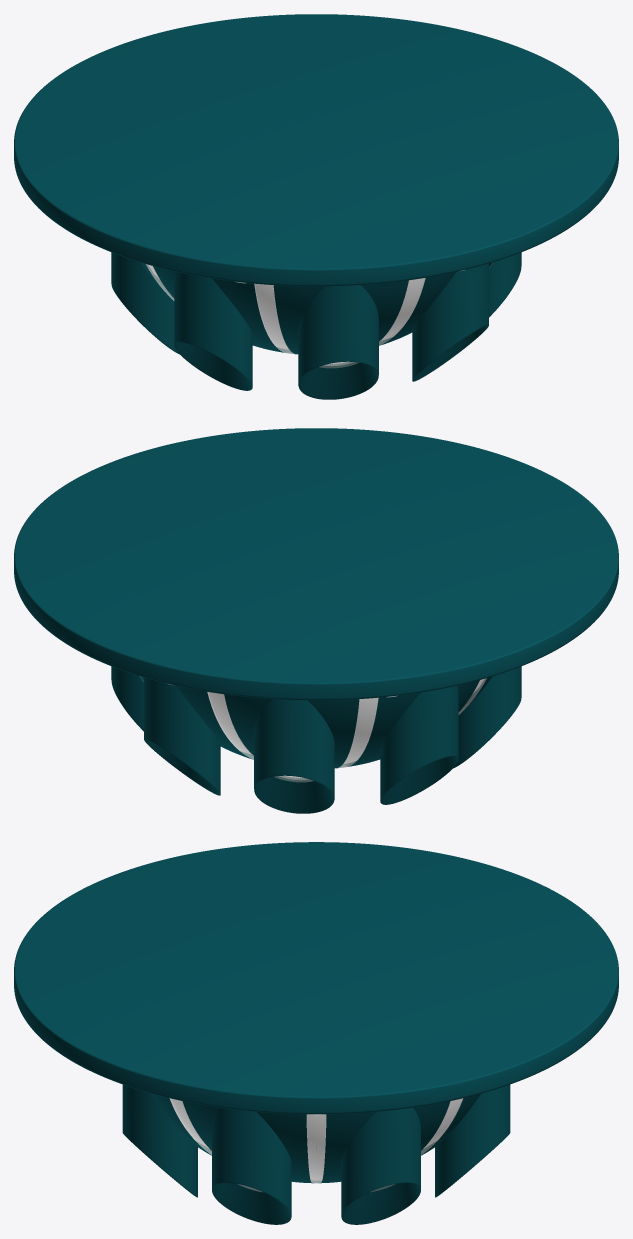
The picture shows the model from 3 angles, top to bottom: view 1: azimuth 30°, elevation 25°; view 2: azimuth 150°, elevation 25°; view 3: azimuth 270°, elevation 25°; orthographic projection.
Parts seen in each view (by area): view 1: chandelier-body_1, chandelier-glass_2, chandelier-light_0; view 2: chandelier-body_1, chandelier-glass_2, chandelier-light_0; view 3: chandelier-body_1, chandelier-glass_2, chandelier-light_0.
Part boxes in pixels (x1,y1,x2,y2): chandelier-body_1: (14,14,618,399); chandelier-glass_2: (146,262,492,368); chandelier-light_0: (149,265,424,363); chandelier-body_1: (14,428,618,813); chandelier-glass_2: (140,676,486,782); chandelier-light_0: (208,679,483,777); chandelier-body_1: (14,842,618,1224); chandelier-glass_2: (169,1098,463,1192); chandelier-light_0: (170,1098,462,1178).
Size of the model in its own units: 0.75 by 0.2774 by 0.75.
